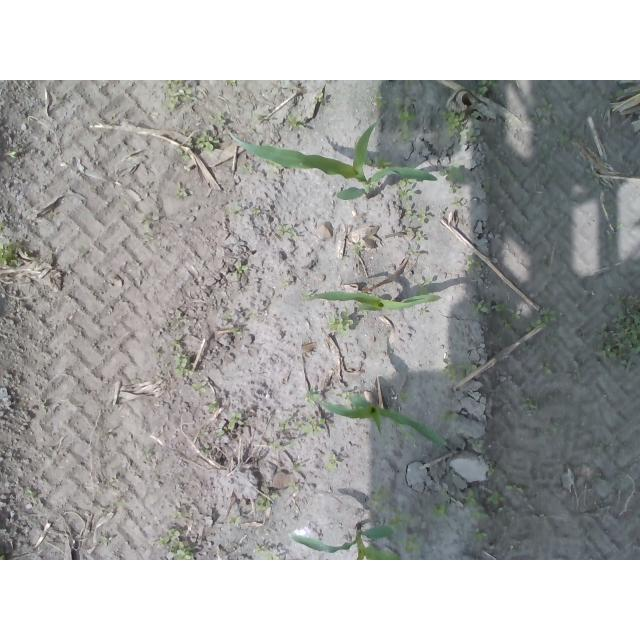Maize: (221, 115, 439, 203), (307, 386, 447, 451), (307, 285, 441, 316), (289, 524, 401, 561)
Weeds: (591, 288, 640, 371), (271, 415, 327, 450), (177, 128, 221, 161), (464, 486, 508, 518), (472, 302, 521, 329), (158, 525, 195, 560), (528, 308, 561, 345), (394, 99, 419, 139), (163, 80, 194, 112), (0, 222, 20, 266), (327, 312, 355, 336), (441, 108, 464, 137), (445, 362, 480, 378), (255, 493, 280, 513), (371, 485, 392, 508), (445, 163, 468, 182), (402, 208, 430, 223), (174, 351, 189, 378), (254, 544, 279, 560), (518, 396, 540, 413), (274, 222, 297, 238), (398, 177, 414, 200), (388, 512, 410, 528), (440, 408, 460, 425), (227, 205, 261, 215), (475, 81, 497, 96), (288, 112, 306, 130), (505, 482, 530, 494), (473, 527, 490, 543), (370, 94, 387, 110), (325, 454, 339, 473), (406, 538, 423, 553), (192, 381, 209, 395), (229, 410, 244, 424), (236, 260, 249, 276), (542, 364, 555, 377), (240, 162, 253, 175), (302, 386, 314, 400), (432, 503, 443, 518), (3, 152, 18, 161), (470, 438, 482, 448), (398, 391, 410, 401), (314, 92, 324, 104), (175, 511, 187, 520), (489, 465, 498, 477), (230, 329, 242, 337), (25, 489, 34, 498), (176, 189, 184, 199), (219, 116, 226, 127), (229, 81, 239, 88)
